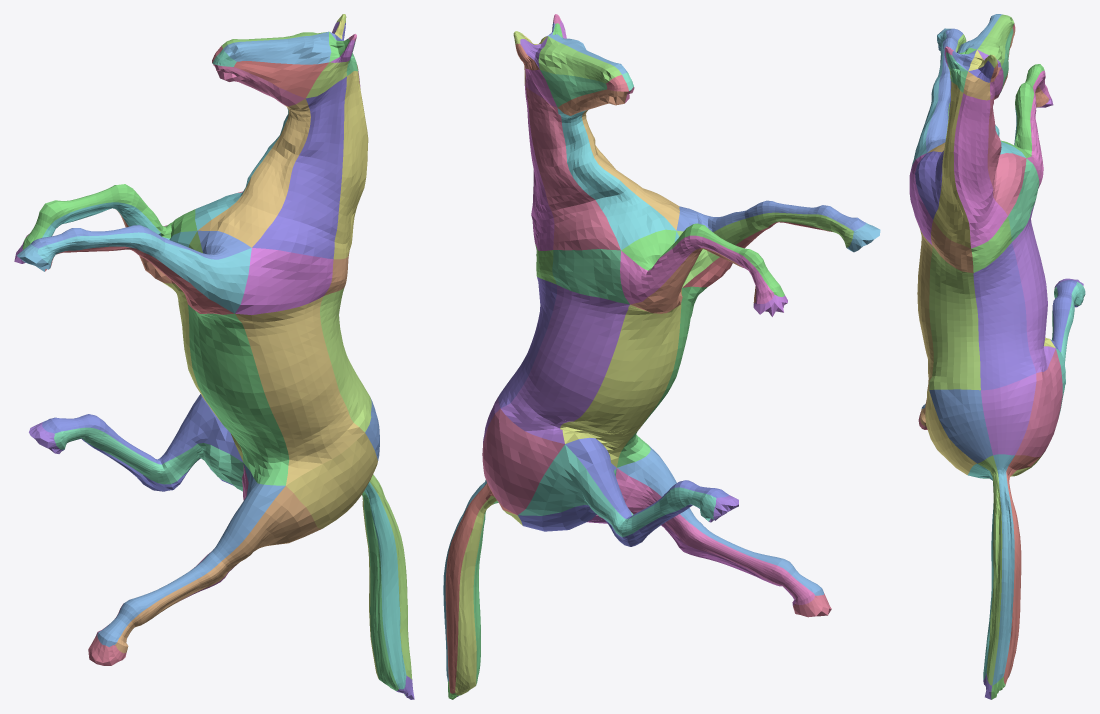
Rendered from horse03_output.obj.
3 renders of one model, left to right at view 1: azimuth 30°, elevation 25°; view 2: azimuth 150°, elevation 25°; view 3: azimuth 270°, elevation 25°, orthographic. The views are drawn at different scales.
Size of the model in its own units: 0.7912 by 1.28 by 0.3292.
